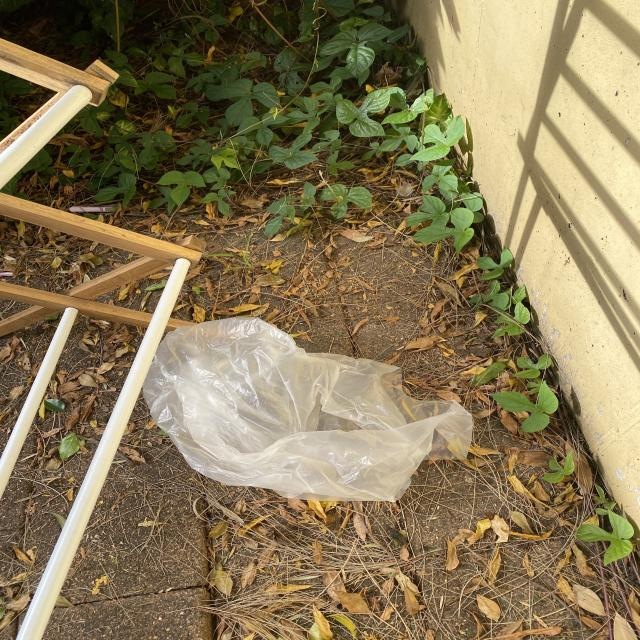cloth: (136, 314, 478, 510)
